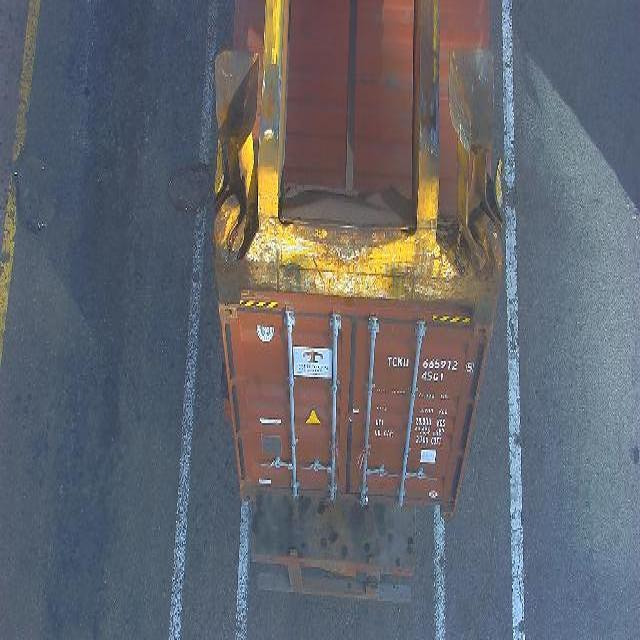ISO: (420, 371, 444, 384)
container_number: (383, 348, 475, 372)
